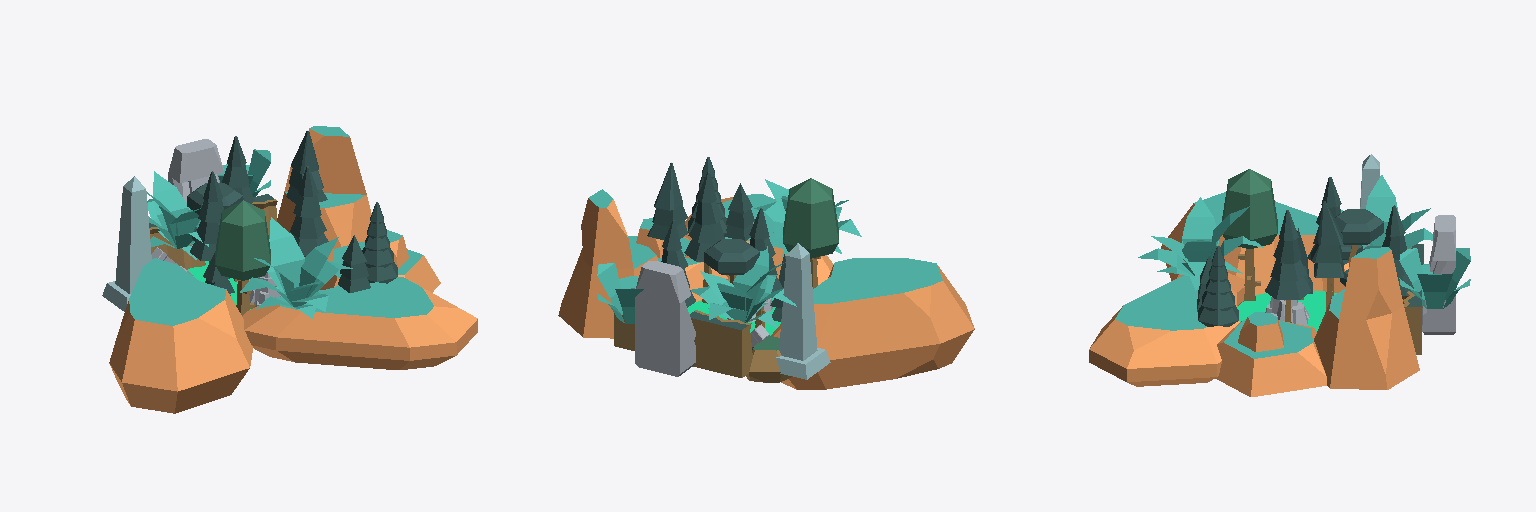
File: FF_HauntedHollow.obj
3 renders of one model, left to right at view 1: azimuth 30°, elevation 25°; view 2: azimuth 150°, elevation 25°; view 3: azimuth 270°, elevation 25°, orthographic.
Bounding box in the file's own units: 18.46 × 9.44 × 17.9.